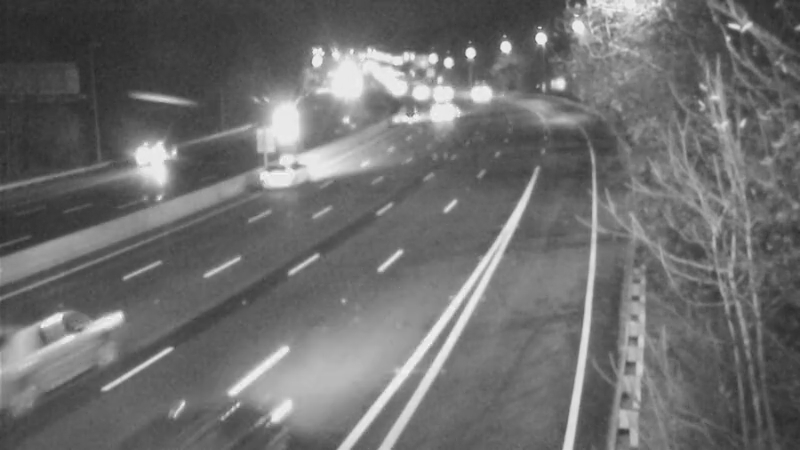vehicle: (8, 290, 118, 400), (235, 136, 315, 216), (122, 113, 202, 193), (457, 66, 507, 116), (397, 72, 447, 122), (416, 64, 466, 114), (421, 86, 471, 136), (386, 93, 436, 143), (266, 95, 316, 145)
